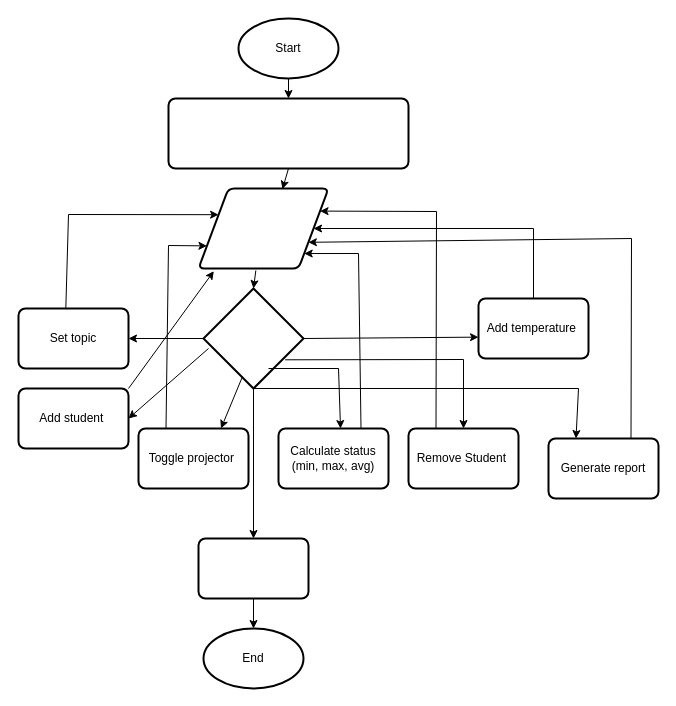
The diagram is 676 pixels wide and 706 high, and some of its shapes have lost their labels. Here are the shapes that lost their labels. From the top down, the centre of each, then its label:
At pixel 288 133: "Initialize room state, attendance, tempurate".
At pixel 263 228: "Display menu".
At pixel 253 338: "Choice".
At pixel 253 568: "Exit".
